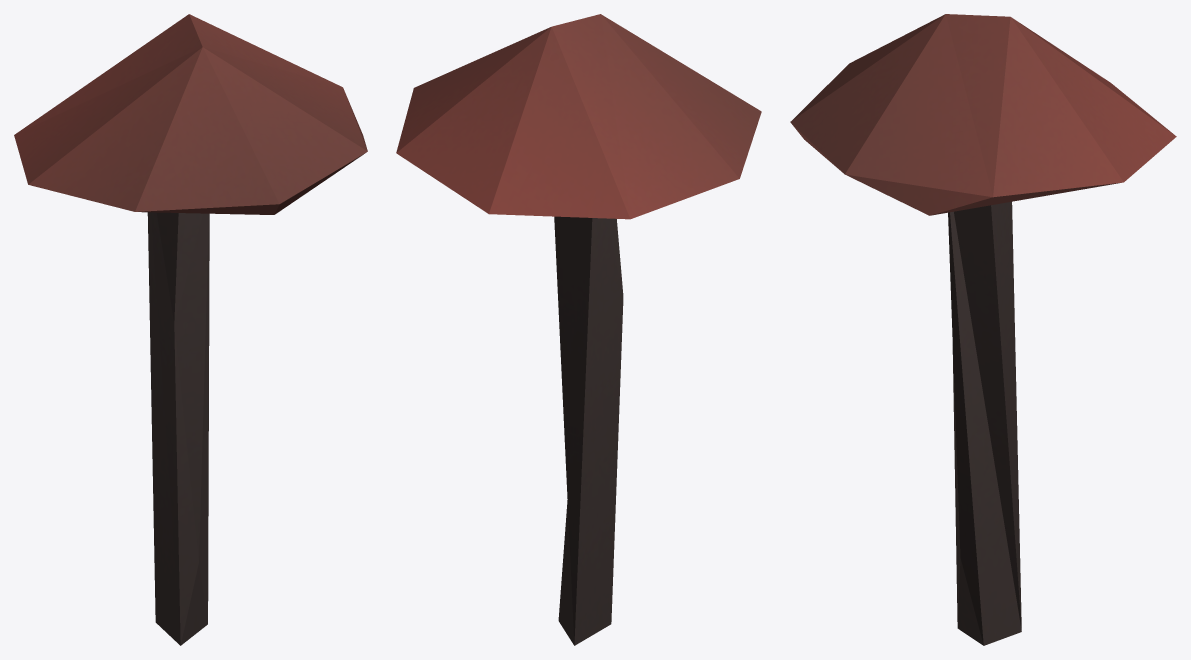
The model's file is Mush_1_LOD.fbx.
The picture shows the model from 3 angles, left to right: view 1: azimuth 30°, elevation 25°; view 2: azimuth 150°, elevation 25°; view 3: azimuth 270°, elevation 25°; orthographic projection. The views are drawn at different scales.
Parts seen in each view (by area): view 1: polySurface1310; view 2: polySurface1310; view 3: polySurface1310.
Part boxes in pixels (x1,y1,x2,y2): polySurface1310: (14,14,367,645); polySurface1310: (396,14,761,645); polySurface1310: (790,14,1176,645).
Size of the model in its own units: 1.54 by 2.79 by 1.55.
